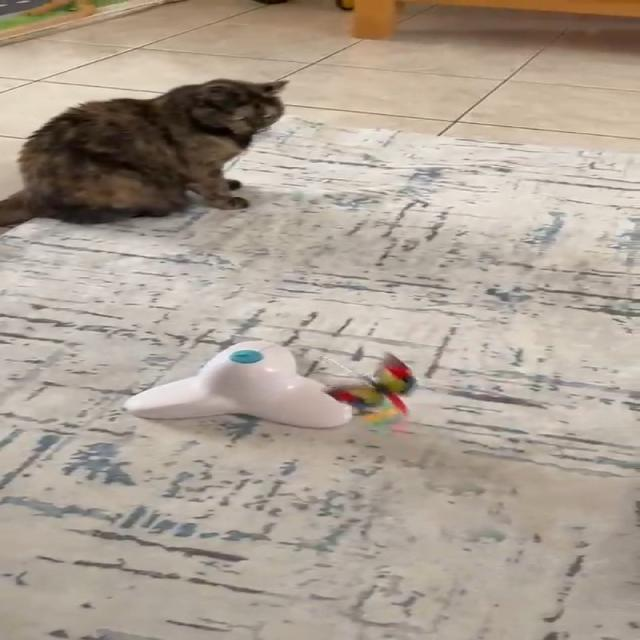authorized: (0, 76, 289, 226)
